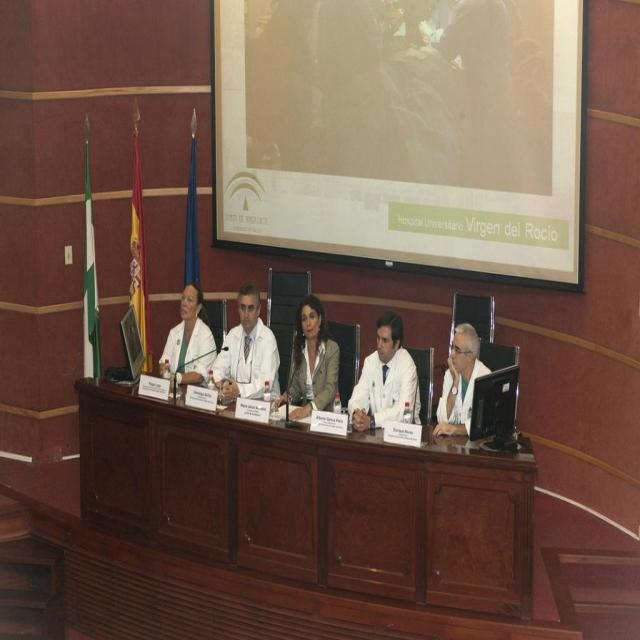Table: (0, 384, 536, 638)
